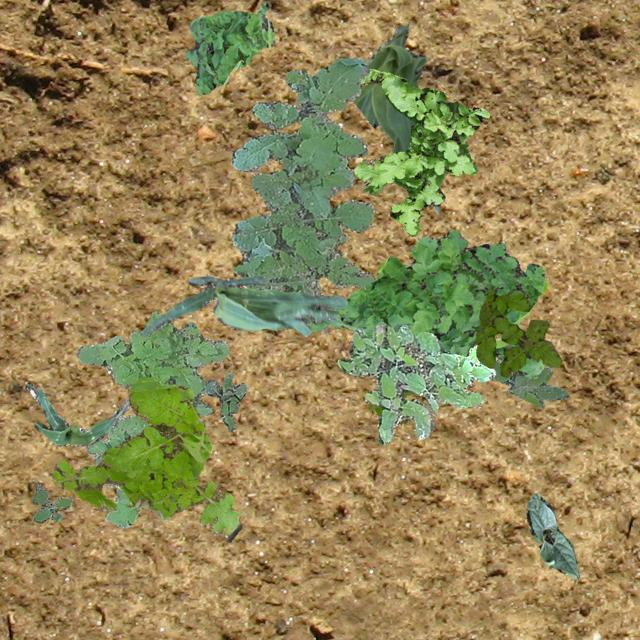crop: (352, 22, 438, 212), (142, 274, 346, 336), (24, 382, 130, 444), (526, 492, 578, 578)
weed: (230, 57, 374, 330), (308, 228, 546, 378), (76, 310, 228, 528), (48, 376, 240, 542), (352, 68, 488, 236), (336, 321, 494, 444), (184, 0, 274, 94), (474, 290, 560, 376), (488, 357, 568, 408), (204, 372, 246, 431), (31, 482, 72, 522), (368, 391, 412, 424), (466, 318, 479, 352), (332, 232, 347, 254)
